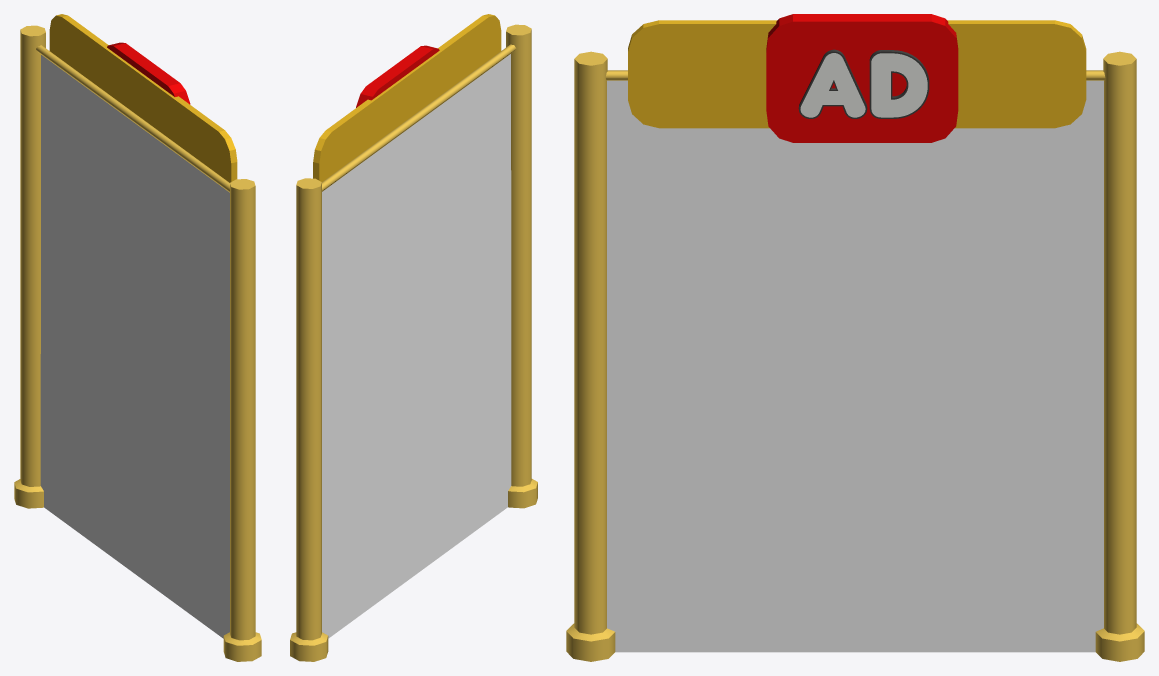
Rendered from yellow gate (3).fbx.
3 views of the same model, side by side, from view 1: azimuth 30°, elevation 25°; view 2: azimuth 150°, elevation 25°; view 3: azimuth 270°, elevation 25° (orthographic). The views are drawn at different scales.
Visible parts, largest first — view 1: plane, yellow_gate, button; view 2: plane, yellow_gate, button; view 3: plane, yellow_gate, button, AD.
Part boxes in pixels (x1,y1,x2,y2): plane: [40, 55, 229, 638]; yellow_gate: [14, 14, 261, 661]; button: [107, 42, 190, 104]; plane: [322, 54, 511, 638]; yellow_gate: [290, 14, 537, 661]; button: [356, 45, 439, 107]; plane: [607, 80, 1103, 652]; yellow_gate: [566, 20, 1144, 661]; button: [766, 14, 958, 142]; AD: [798, 49, 929, 118].
Size of the model in its own units: 0.2666 by 3.41 by 2.79.
Materials: 2 (2 with a texture image).
